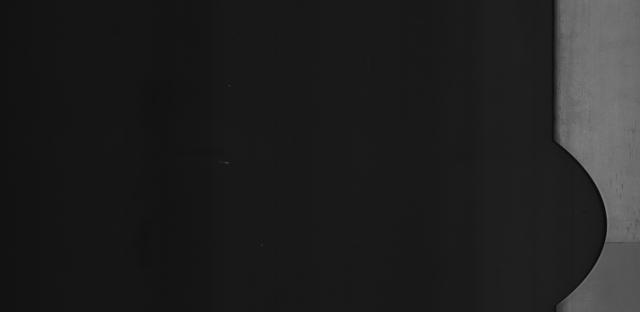crescent_gap: (528, 131, 612, 312)
welding_line: (599, 238, 640, 246)
